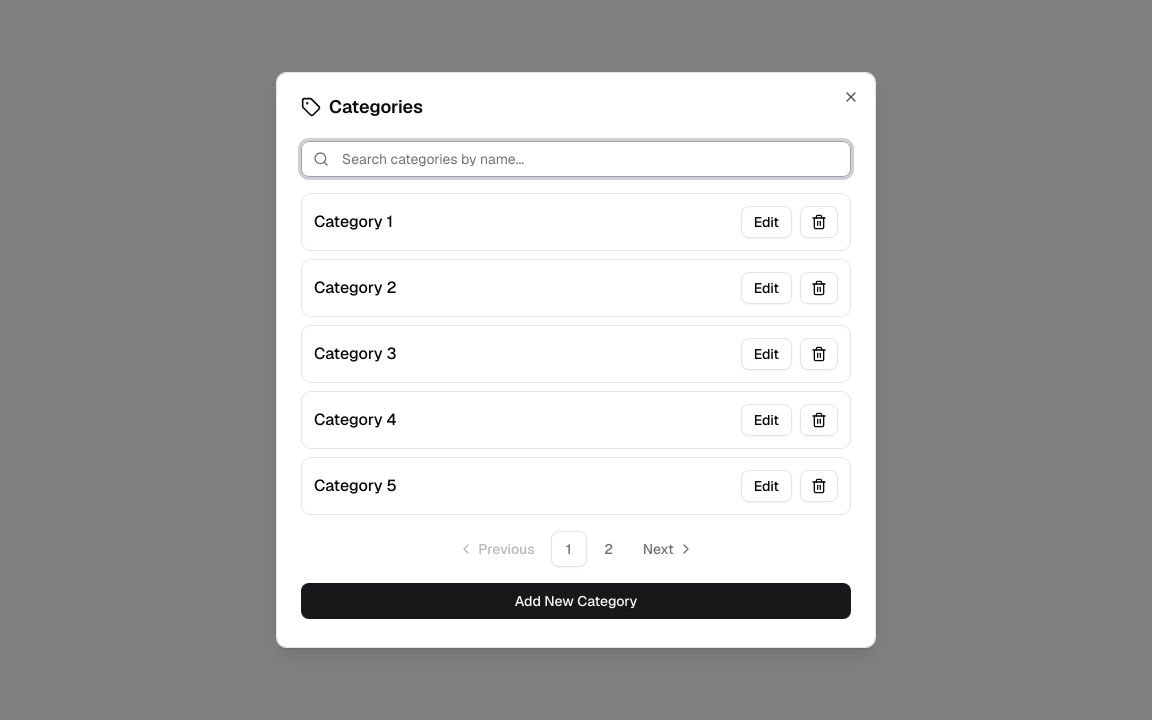
Scenario: ViewCategoriesModal › pages through the categories
This screenshot has width=1152, height=720.
Expected: the text "Category 1" is shown, [314,210,393,234]
Click the link "2". click: (609,549)
box: [604,540,613,558]
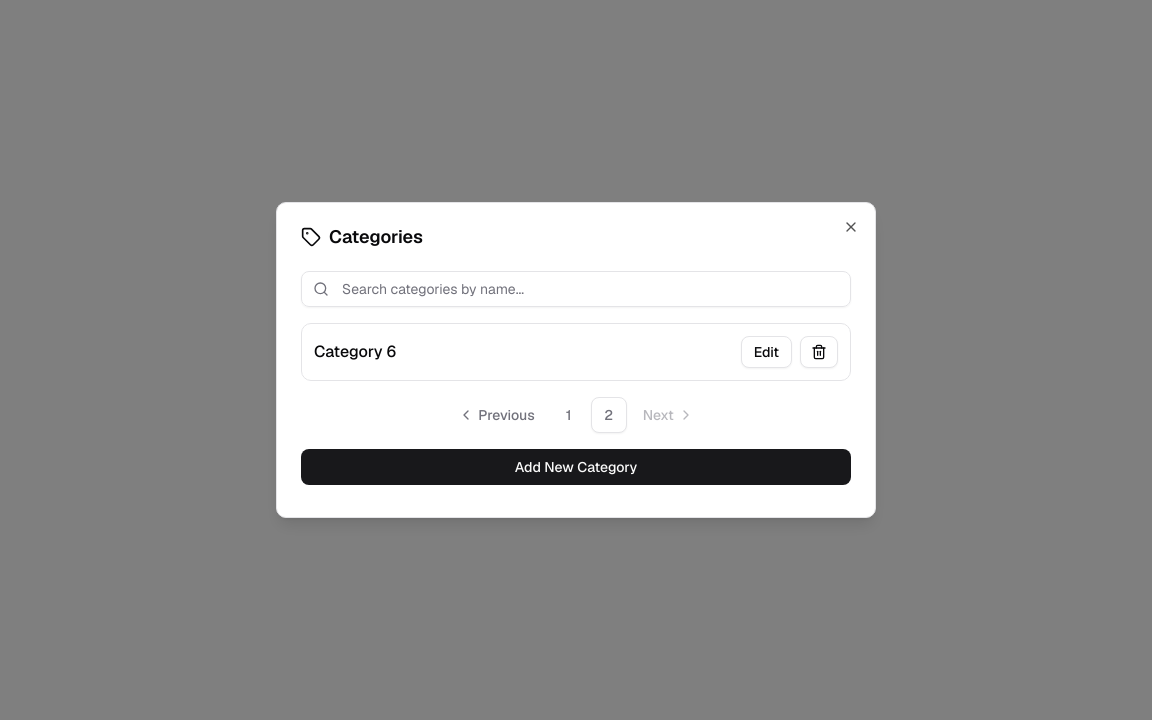
Expected: the text "Category 6" is shown, [314,340,396,364]
Click the text "Previous". click: (506,415)
box: [478,405,535,425]
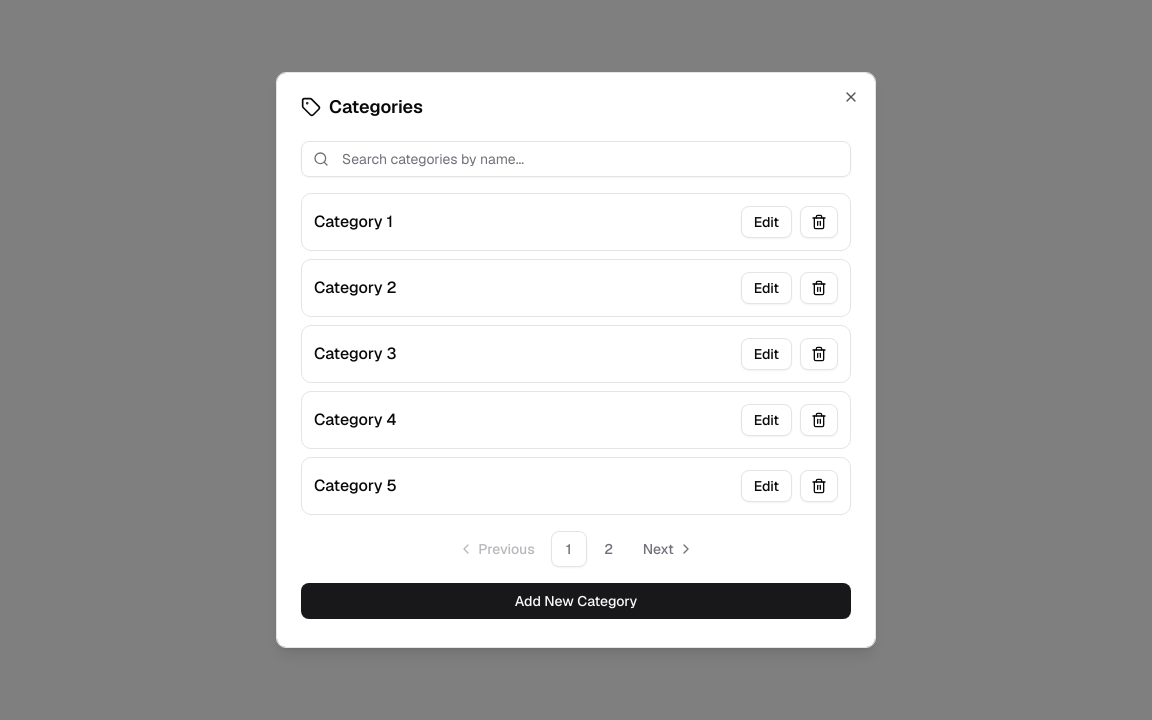
Expected: the text "Category 1" is shown, [314,210,393,234]
Click the text "Next". click: (658,549)
box: [643,539,674,559]
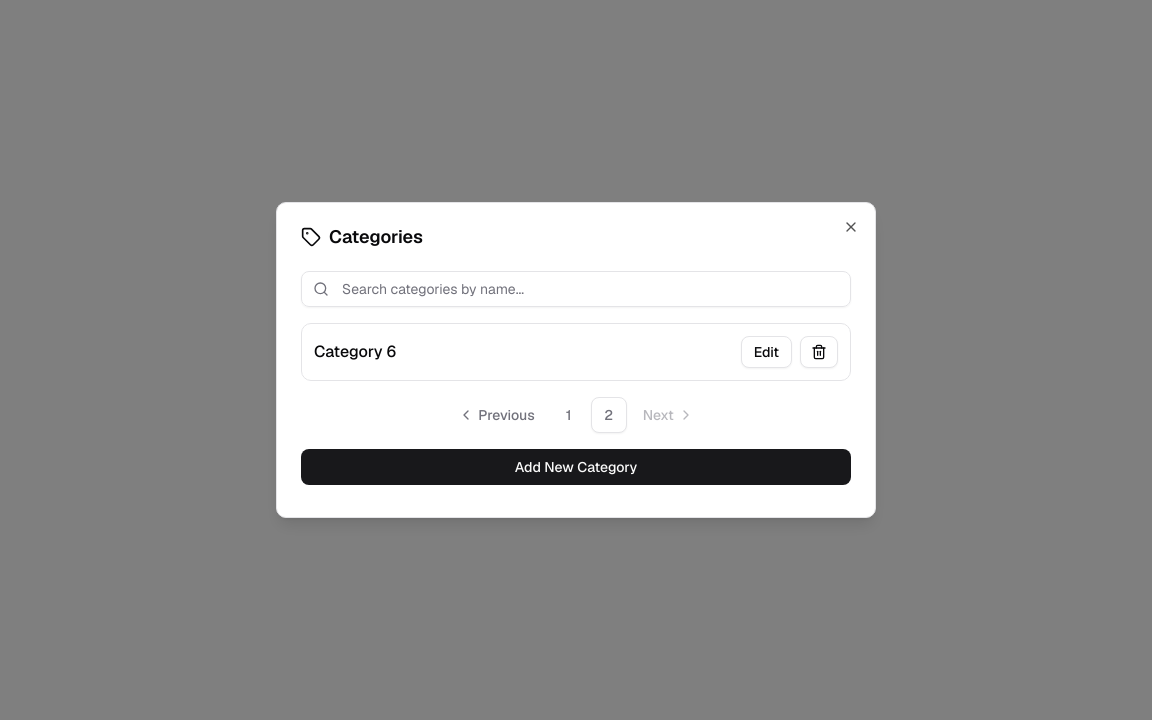
Expected: the text "Category 6" is shown, [314,340,396,364]
